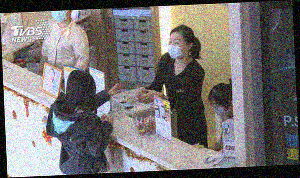with_mask: (167, 36, 186, 61), (209, 99, 230, 118)
